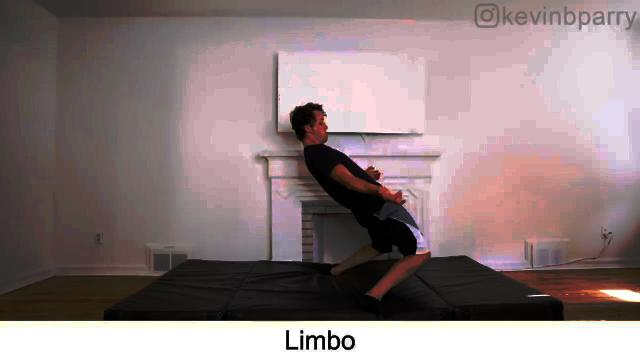jatuh: (274, 101, 446, 314)
